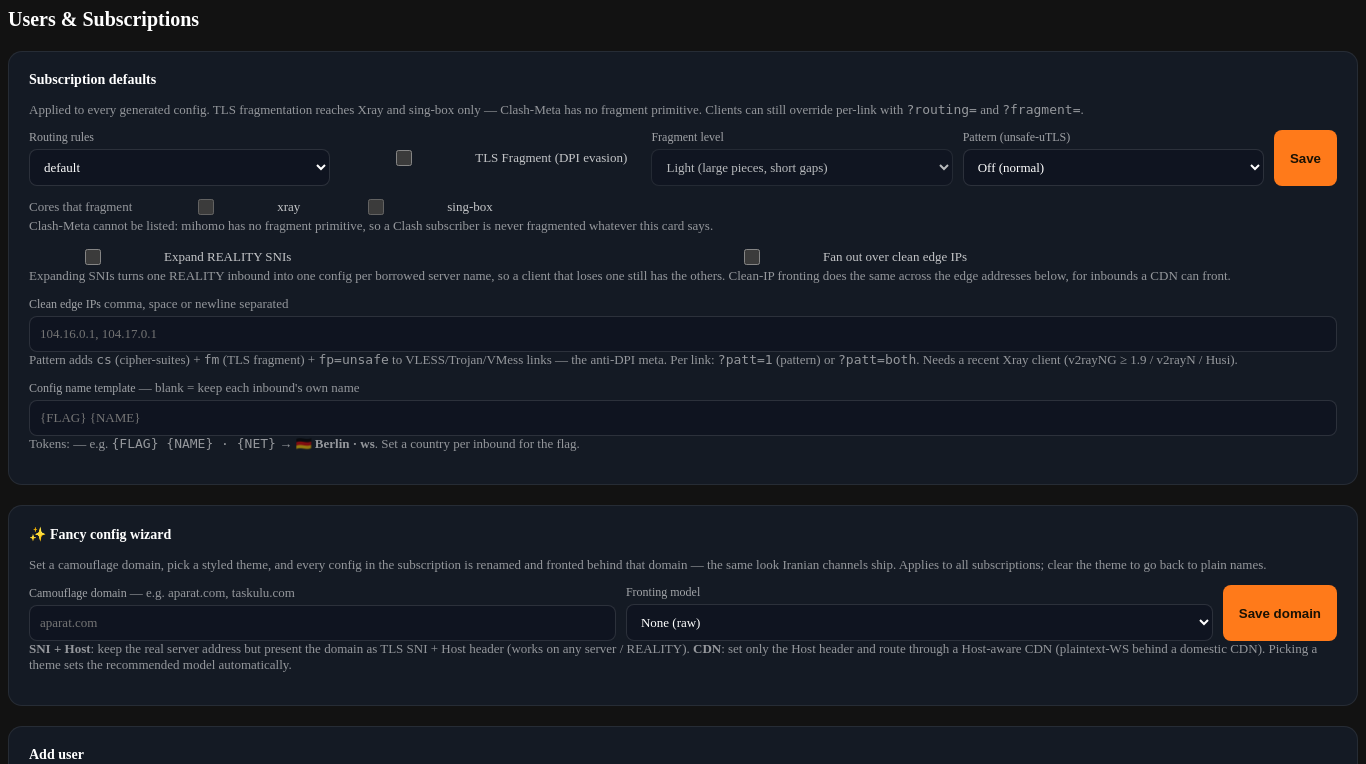
UsersView subscription settings refusal › clears the previous refusal when the next save succeeds
Expected: the element with test id "sub-settings" is shown, [8,51,1358,485]
Click the button with test id "save-sub-settings": (1305, 158) [1274,130,1337,186]
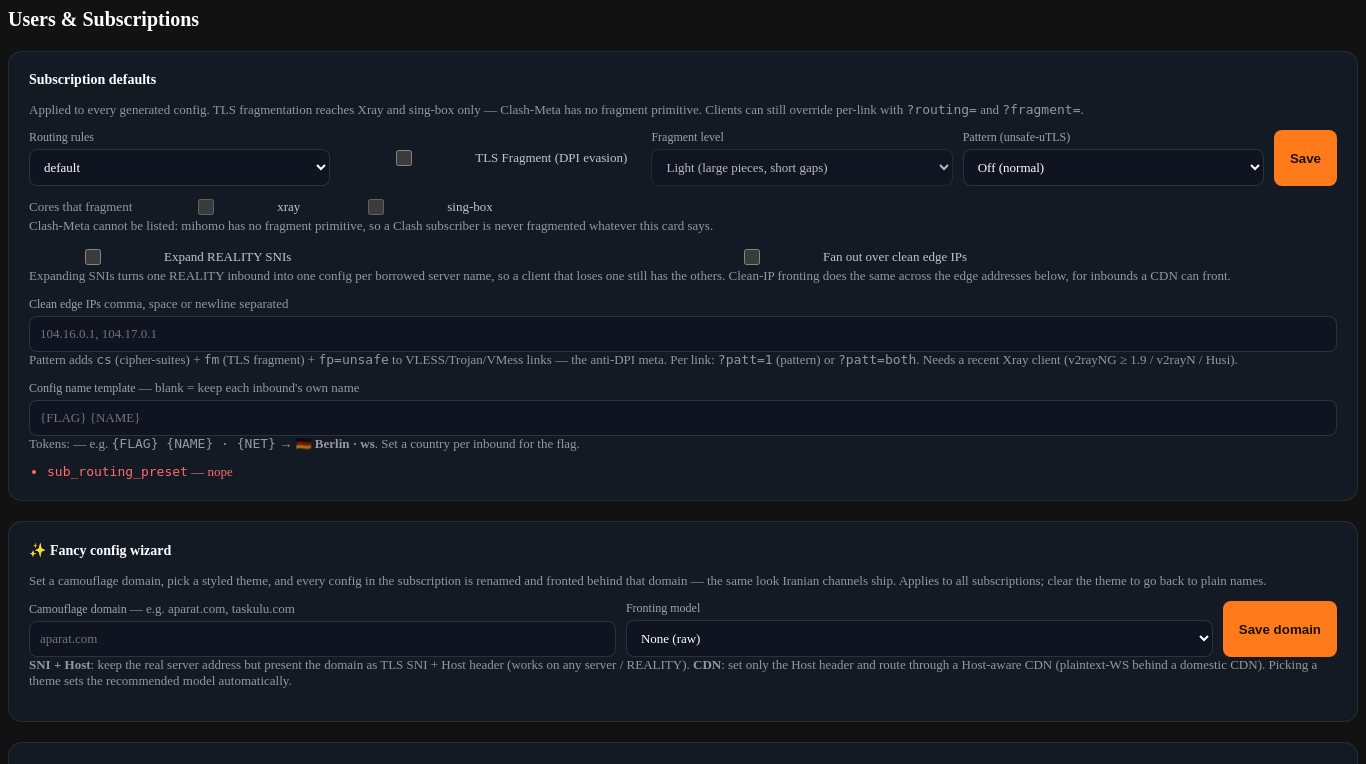
Result: the list with test id "sub-settings-errors" is shown at [47,464,233,479]
Click the button with test id "save-sub-settings": (1305, 158) [1274,130,1337,186]
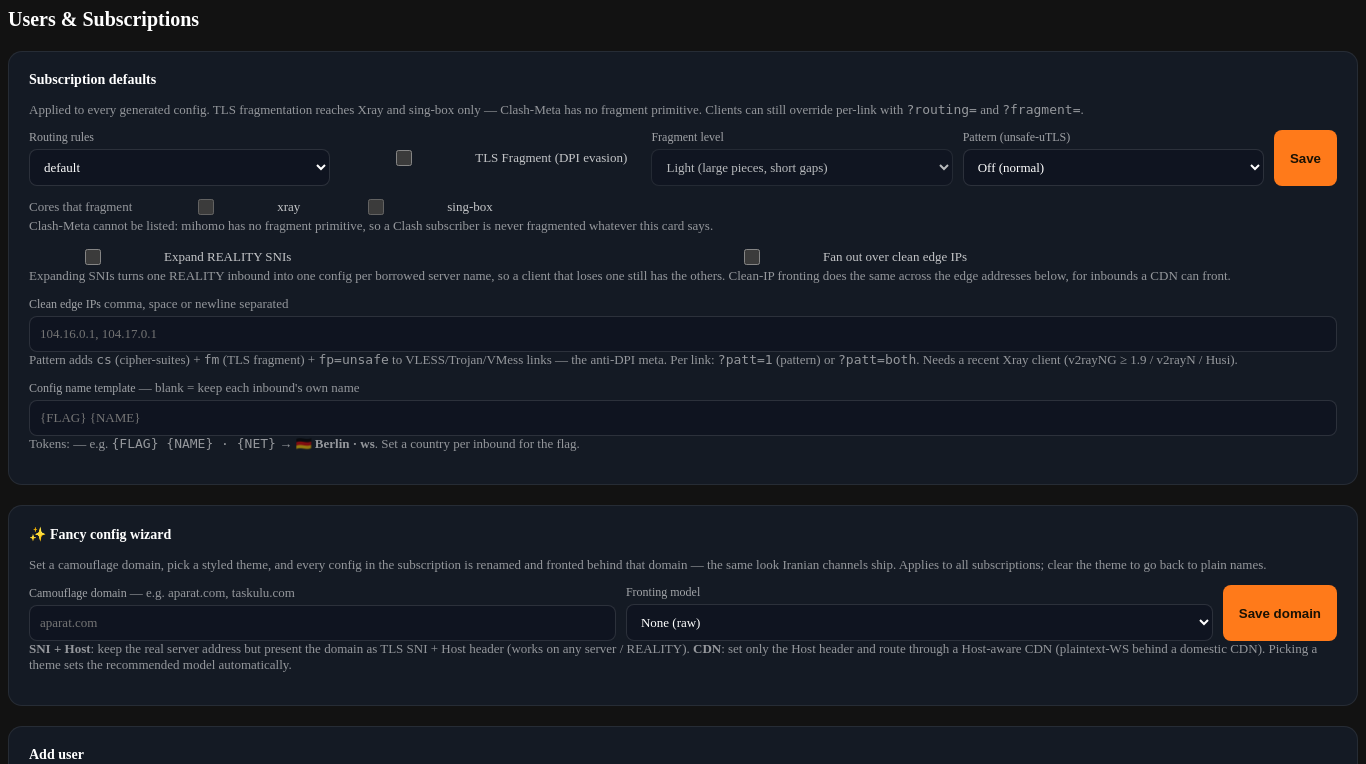
Result: the list with test id "sub-settings-errors" is gone
